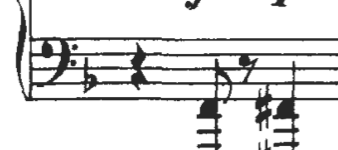bass_clef: (35, 32, 80, 91)
flat: (81, 58, 101, 97)
